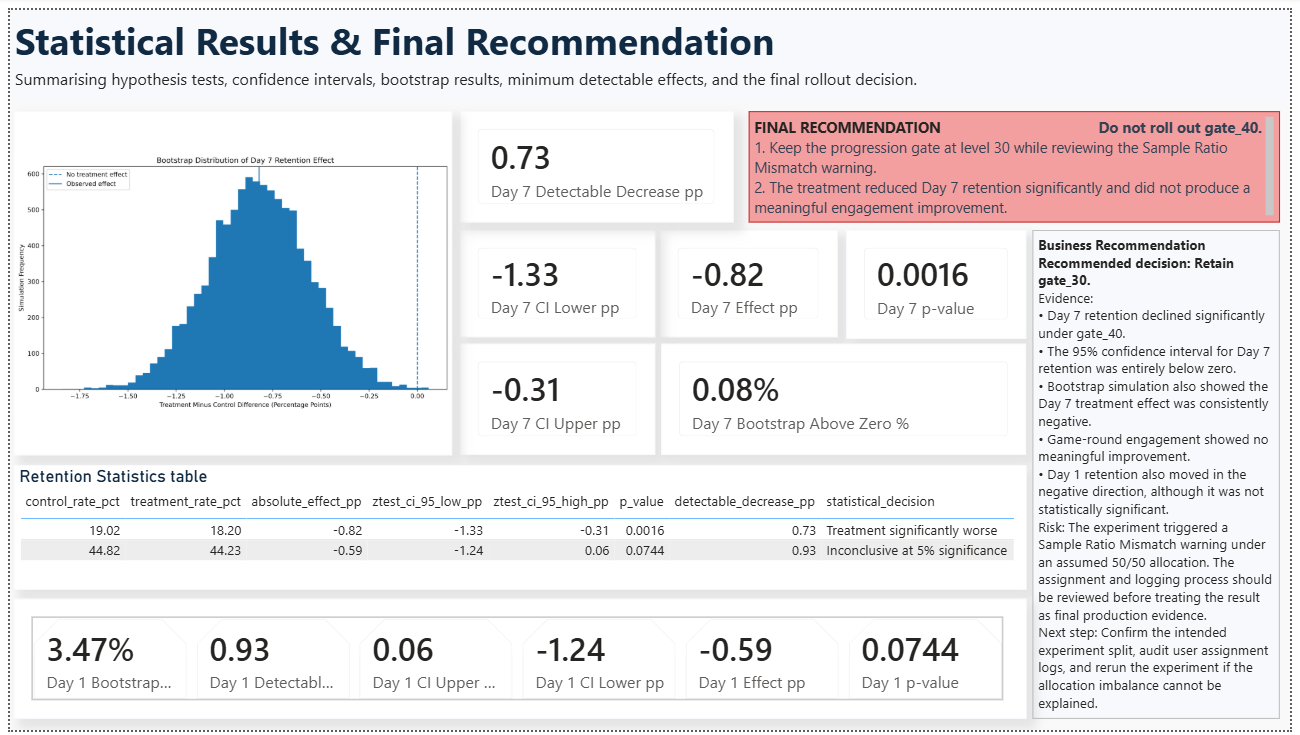

This screenshot's page, from the dashboard's own definition file:
{"tool":"powerbi","page":{"name":"Statistical Results","canvas":[1280,720],"ordinal":4},"visuals":[{"type":"textbox","box":[738.8,101.2,531.2,111.2],"z":0},{"type":"cardVisual","fields":{"Data":["Retention Statistics.Day 7 Effect pp"]},"box":[650,220,177.5,107.5],"z":1000},{"type":"cardVisual","fields":{"Data":["Retention Statistics.Day 7 p-value"]},"box":[836.2,220,180,108.8],"z":2000},{"type":"cardVisual","fields":{"Data":["Retention Statistics.Day 7 CI Lower pp"]},"box":[450,220,195,107.5],"z":3000},{"type":"cardVisual","fields":{"Data":["Retention Statistics.Day 7 CI Upper pp"]},"box":[450,333.8,195,111.2],"z":4000},{"type":"cardVisual","fields":{"Data":["Retention Statistics.Day 7 Bootstrap Above Zero %"]},"box":[651.2,333.8,365,111.2],"z":5000},{"type":"cardVisual","fields":{"Data":["Retention Statistics.Day 7 Detectable Decrease pp"]},"box":[450,101.2,273.8,111.2],"z":6000},{"type":"image","box":[3.8,101.2,438.8,343.8],"z":7000},{"type":"tableEx","title":"Retention Statistics table","fields":{"Values":["Retention Statistics.control_rate_pct","Retention Statistics.treatment_rate_pct","Retention Statistics.absolute_effect_pp","Retention Statistics.ztest_ci_95_low_pp","Retention Statistics.ztest_ci_95_high_pp","Retention Statistics.p_value","Retention Statistics.detectable_decrease_pp","Retention Statistics.statistical_decision"]},"box":[3.8,455,1012.5,125],"z":8000},{"type":"textbox","box":[1022.5,220,247.5,488.8],"z":9000},{"type":"textbox","box":[0,0,1280,62.9],"z":10000},{"type":"textbox","box":[0,52.9,1280,38.6],"z":11000},{"type":"cardVisual","fields":{"Data":["Retention Statistics.Day 1 Bootstrap Above Zero %","Retention Statistics.Day 1 Detectable Decrease pp","Retention Statistics.Day 1 CI Upper pp","Retention Statistics.Day 1 CI Lower pp","Retention Statistics.Day 1 Effect pp","Retention Statistics.Day 1 p-value"]},"box":[3.8,588.8,1012.5,120],"z":12000}]}

Visuals, with their boxes in screenshot pixels (x1, y1, x2, y2), scaled from the page's 1280x720 canvas onto the 1300x735 screenshot:
textbox: bbox(750, 103, 1290, 217)
cardVisual - Retention Statistics.Day 7 Effect pp: bbox(660, 225, 840, 334)
cardVisual - Retention Statistics.Day 7 p-value: bbox(849, 225, 1032, 336)
cardVisual - Retention Statistics.Day 7 CI Lower pp: bbox(457, 225, 655, 334)
cardVisual - Retention Statistics.Day 7 CI Upper pp: bbox(457, 341, 655, 454)
cardVisual - Retention Statistics.Day 7 Bootstrap Above Zero %: bbox(661, 341, 1032, 454)
cardVisual - Retention Statistics.Day 7 Detectable Decrease pp: bbox(457, 103, 735, 217)
image: bbox(4, 103, 450, 454)
"Retention Statistics table" tableEx: bbox(4, 464, 1032, 592)
textbox: bbox(1038, 225, 1290, 724)
textbox: bbox(0, 0, 1299, 64)
textbox: bbox(0, 54, 1299, 93)
cardVisual - Retention Statistics.Day 1 Bootstrap Above Zero % x Retention Statistics.Day 1 Detectable Decrease pp: bbox(4, 601, 1032, 724)
